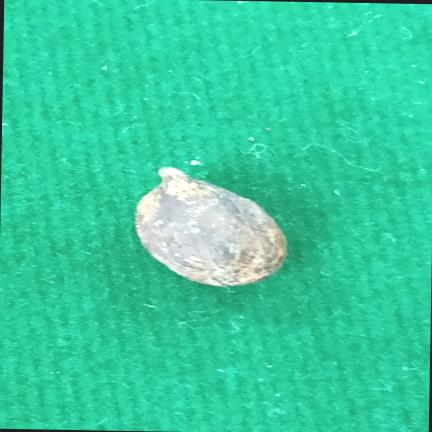husk: (135, 167, 286, 286)
